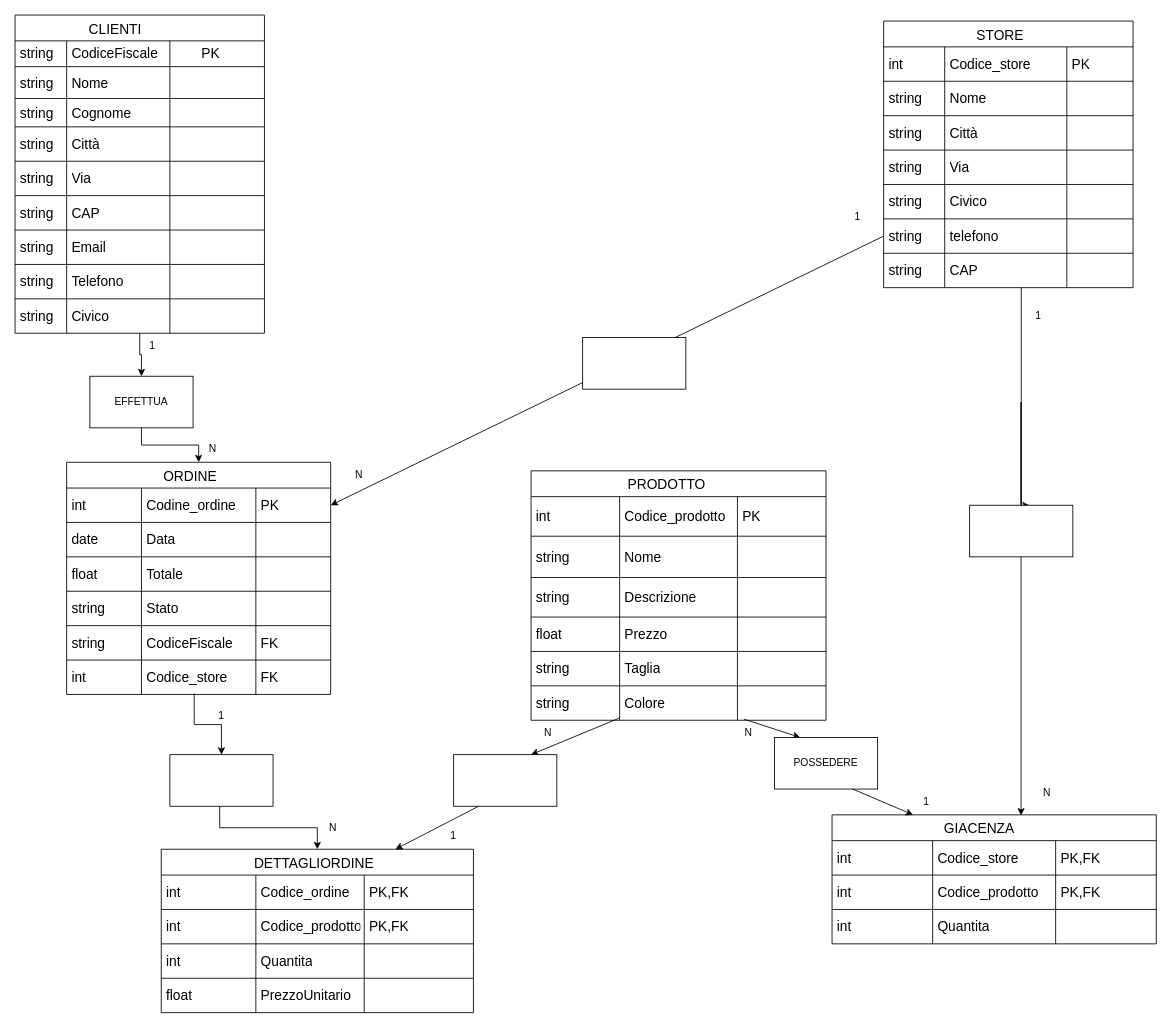
Image size: 1171x1028. Some labels were removed from this diagram. Each missing label, with the centre of its shape:
"CONTROLLARE" goes at (1021,530).
"GESTIRE" goes at (634,363).
"RIGUARDA" goes at (505,780).
"SPECIFICA" goes at (221,780).
